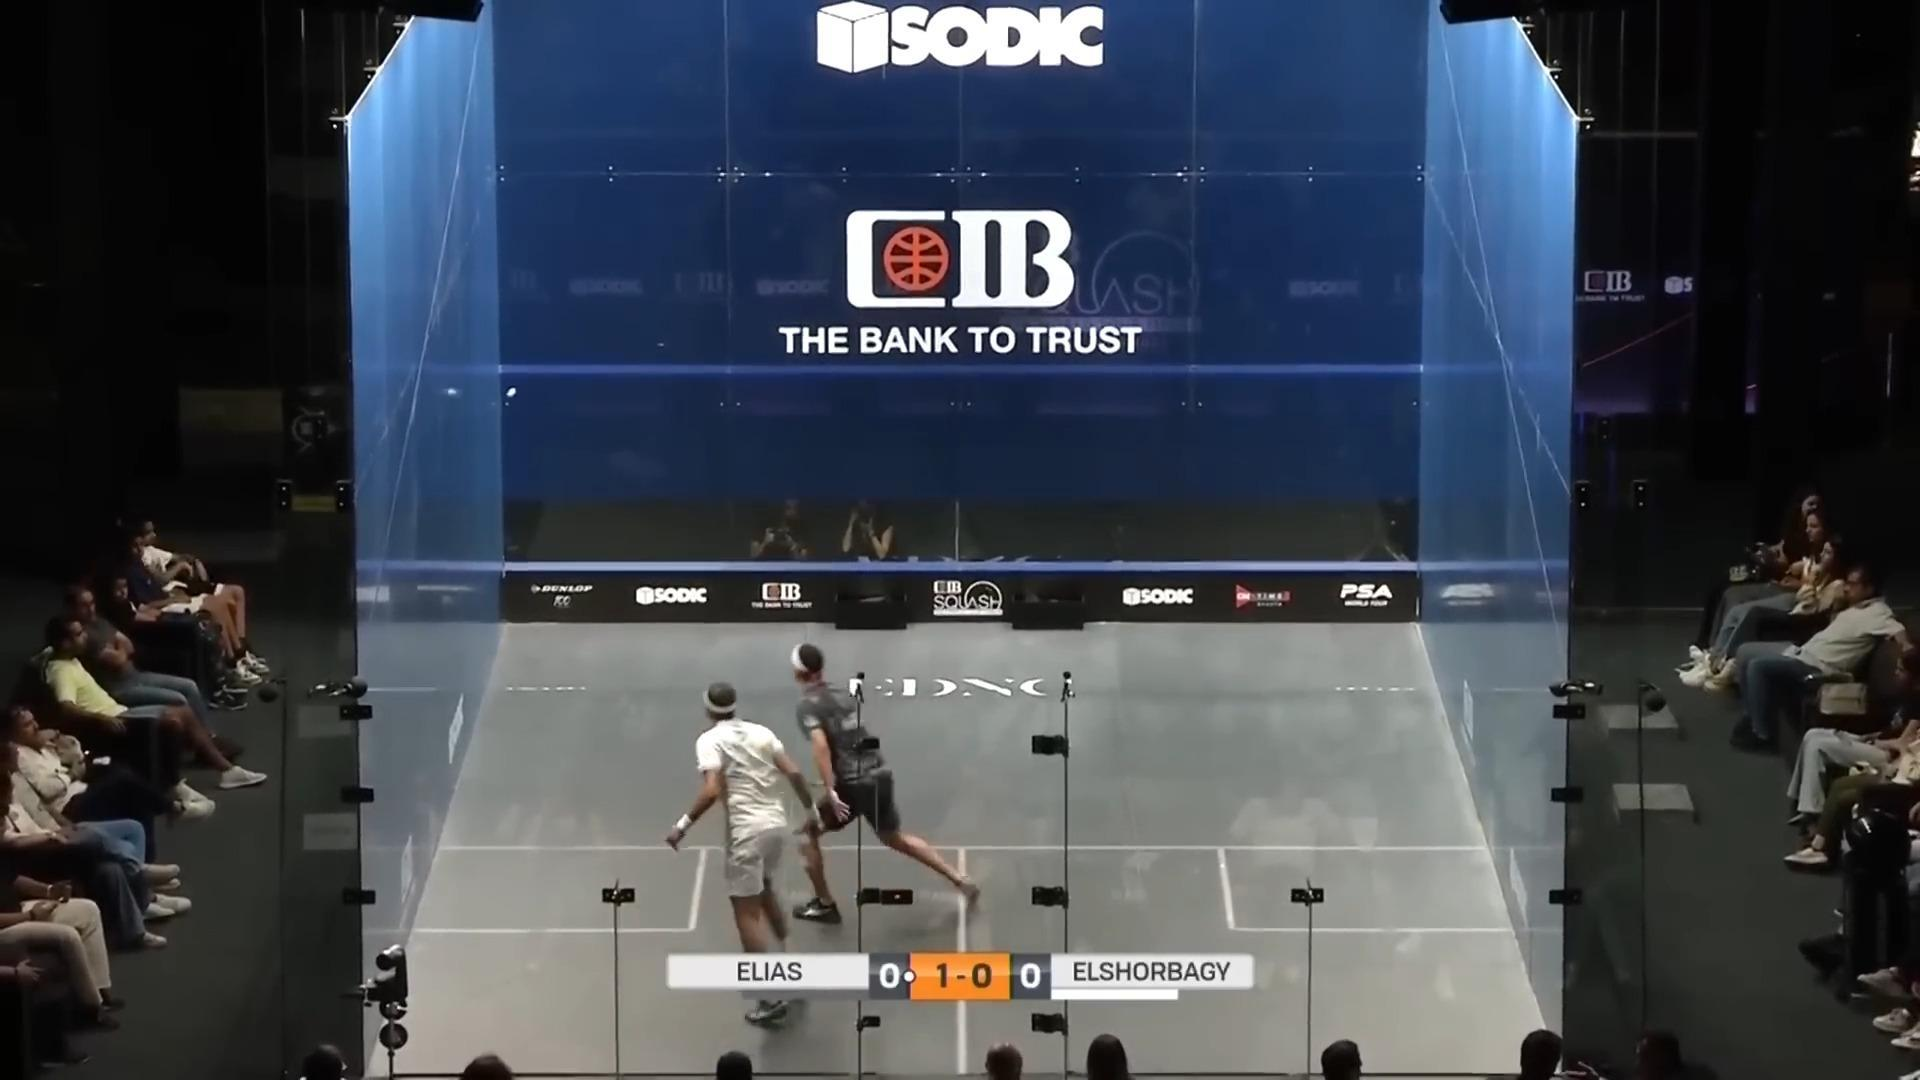Squash-Ball: (497, 380, 527, 406)
